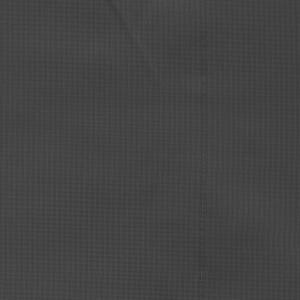Wrinkle: (218, 92, 300, 300), (101, 1, 184, 121)
